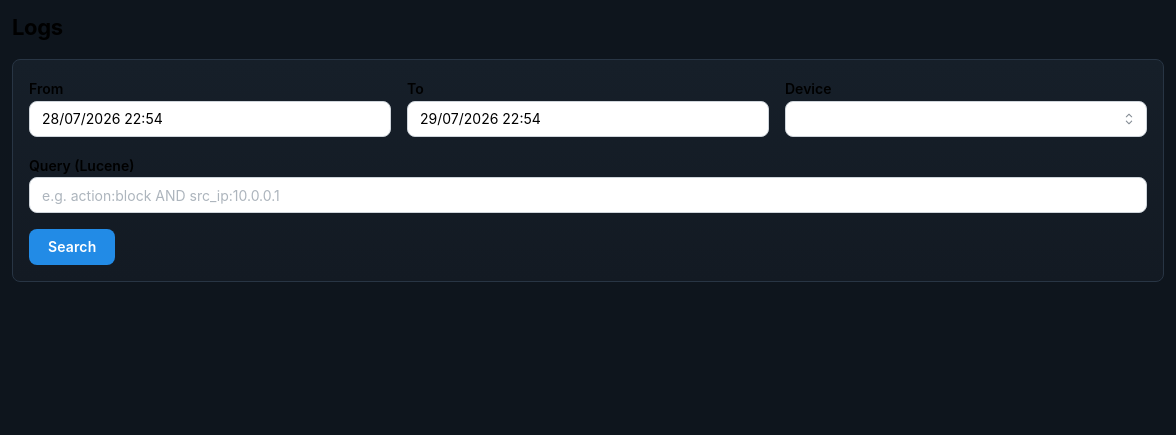
it: LogsPage › searches, loads more (appends), then exhausts the cursor
Click the button with test id "logs-search" at [72, 247], box [29, 229, 115, 265]
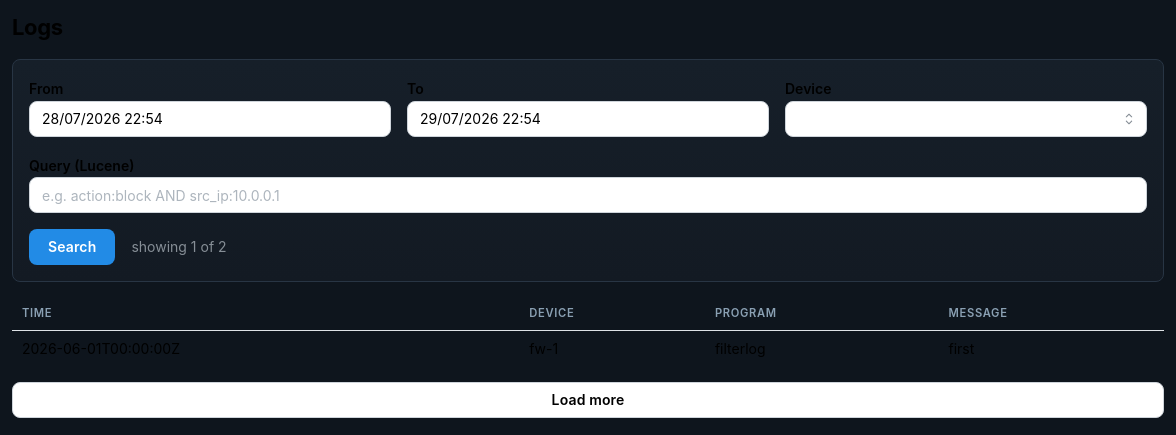
Check: the text "first" is shown, box [938, 330, 1164, 366]
Click the button with test id "logs-loadmore" at [588, 400], box [12, 382, 1164, 418]
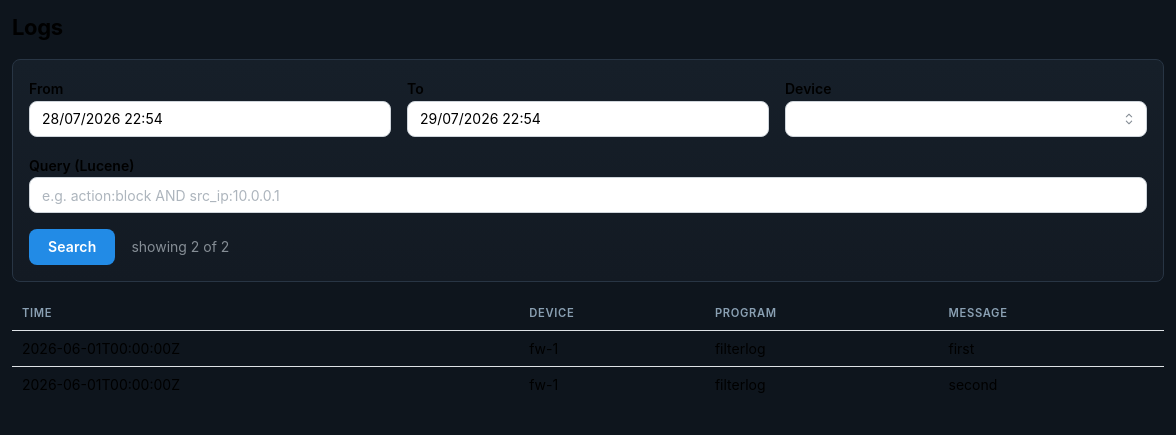
Check: the text "first" is shown, box [938, 330, 1164, 367]
Check: the text "second" is shown, box [938, 367, 1164, 403]
Check: the button with test id "logs-loadmore" is gone
